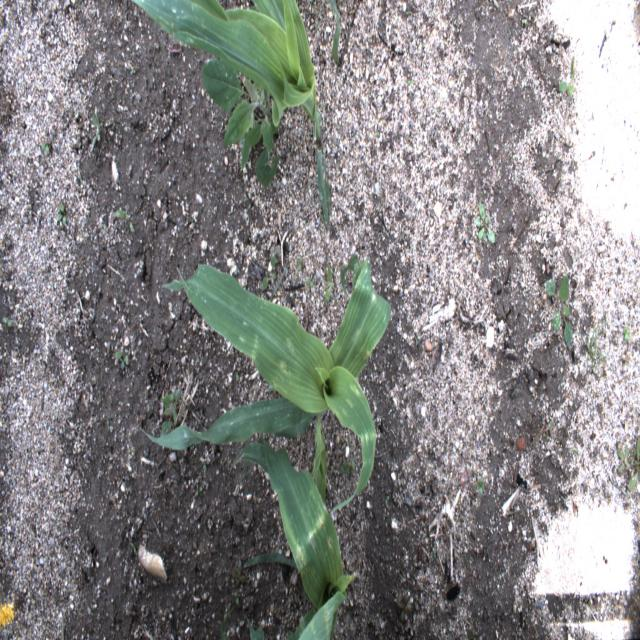crop: (139, 253, 391, 526), (130, 0, 331, 228), (218, 436, 358, 640), (328, 0, 341, 68)
weed: (202, 59, 280, 189), (543, 275, 573, 349), (584, 321, 610, 378), (160, 388, 182, 444), (556, 52, 576, 104), (339, 433, 359, 481), (474, 202, 496, 244), (531, 415, 556, 444), (627, 436, 640, 491), (90, 102, 104, 152), (260, 251, 276, 292), (322, 262, 336, 306), (394, 591, 412, 622), (113, 209, 135, 233), (230, 560, 246, 588), (617, 444, 631, 476), (56, 201, 70, 227), (114, 350, 130, 371), (475, 474, 486, 496), (622, 323, 631, 343), (629, 448, 639, 466), (466, 628, 477, 640), (3, 316, 13, 329), (304, 276, 314, 289), (233, 589, 240, 607), (297, 254, 303, 274), (41, 140, 50, 153), (200, 457, 207, 472), (194, 485, 203, 496), (244, 202, 252, 214), (131, 540, 136, 556), (234, 368, 240, 380), (406, 77, 414, 86), (520, 18, 528, 27), (571, 445, 579, 453), (431, 548, 436, 560), (374, 130, 381, 138), (385, 494, 390, 505), (313, 9, 319, 18), (105, 420, 110, 430), (408, 244, 413, 254), (390, 403, 395, 412), (130, 68, 136, 75), (405, 10, 412, 15), (504, 488, 509, 495), (514, 388, 520, 393), (563, 497, 567, 503)
